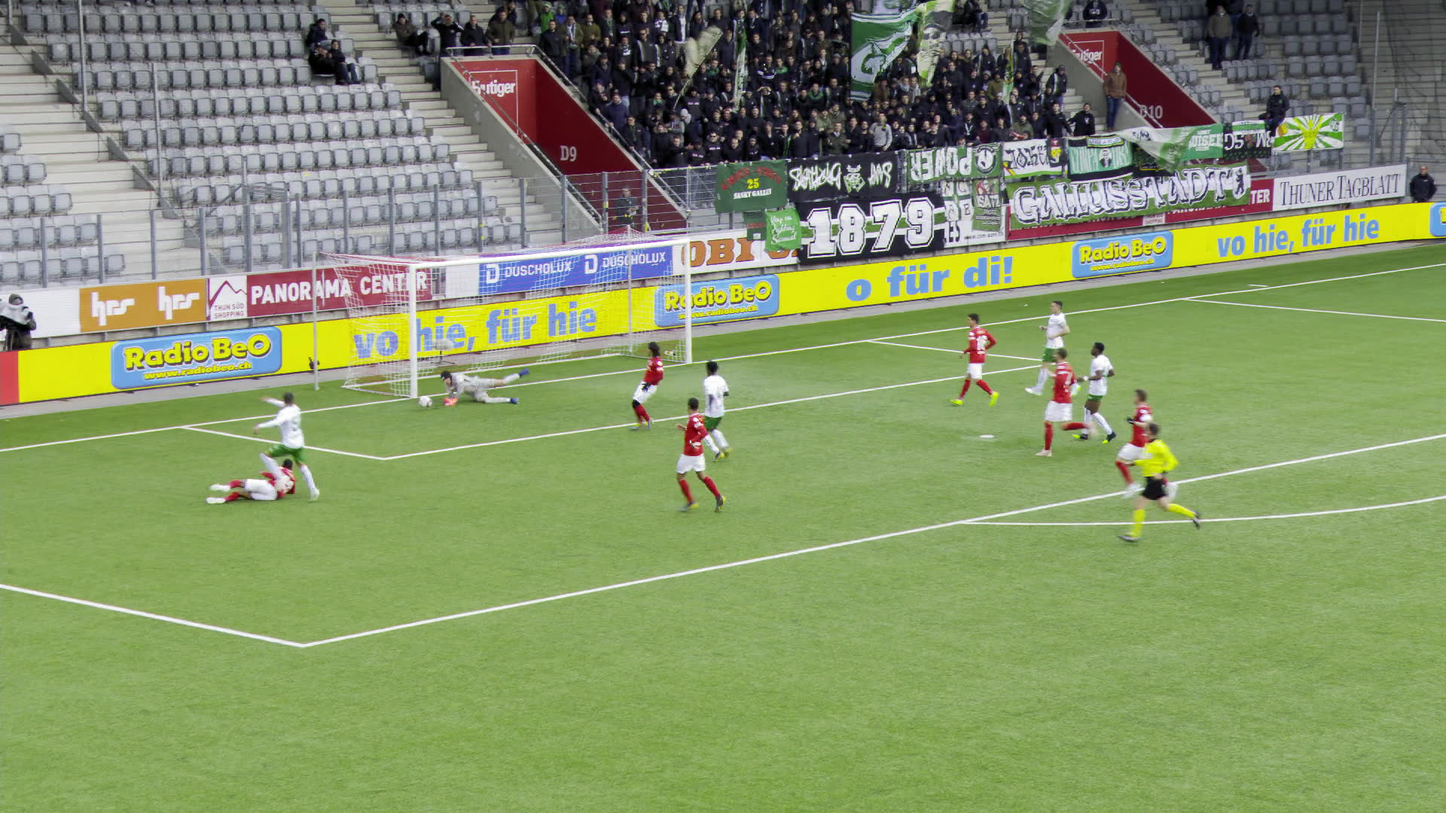ball: (419, 394, 440, 411)
player: (1109, 382, 1185, 500), (249, 387, 324, 504), (1031, 345, 1097, 459), (668, 396, 725, 514), (200, 455, 298, 517), (946, 310, 1001, 413), (1067, 340, 1119, 445), (1021, 300, 1076, 398), (436, 360, 531, 413), (623, 340, 670, 434), (695, 361, 736, 463)
referee: (1112, 422, 1206, 545)
